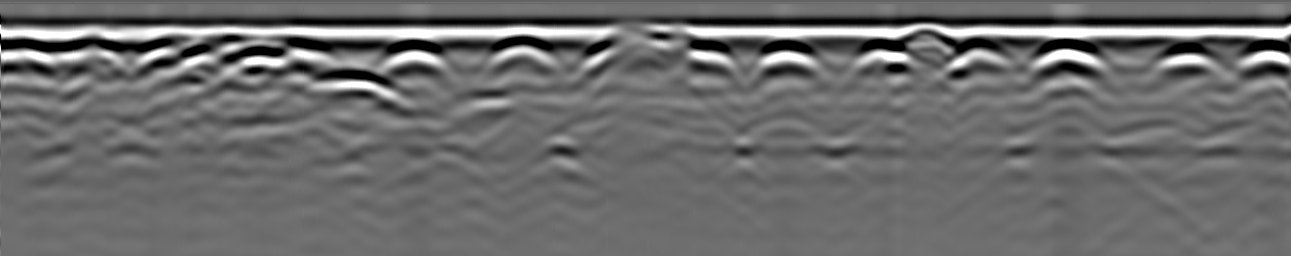pipe: (890, 18, 958, 50), (603, 23, 668, 51)
steel: (372, 37, 454, 76), (1031, 40, 1109, 77), (484, 38, 557, 75), (1154, 39, 1219, 80), (948, 39, 1011, 77), (856, 44, 912, 83), (756, 43, 815, 80), (1242, 41, 1291, 80), (681, 40, 735, 75)
